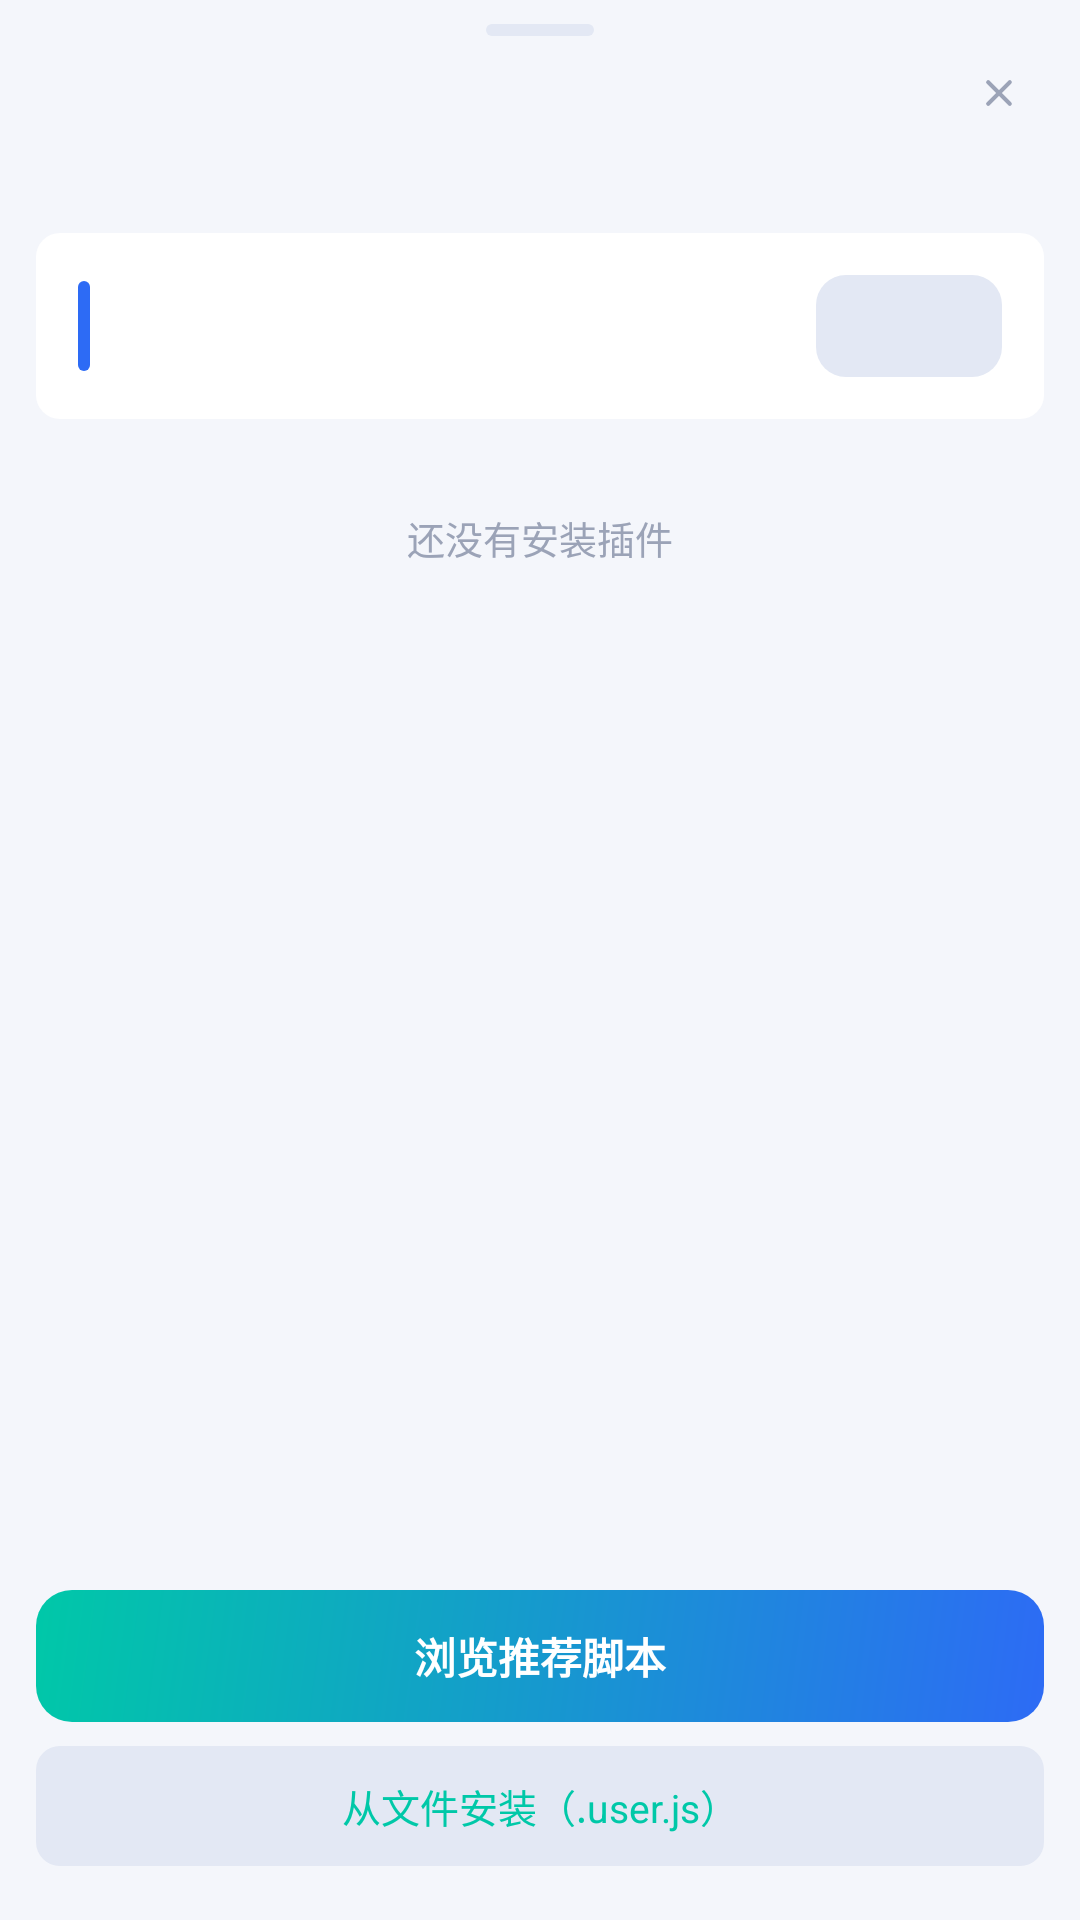

Named icons in this screenshot (1080px×1920px) and their centers, (x,y):
关闭: (999,93)
